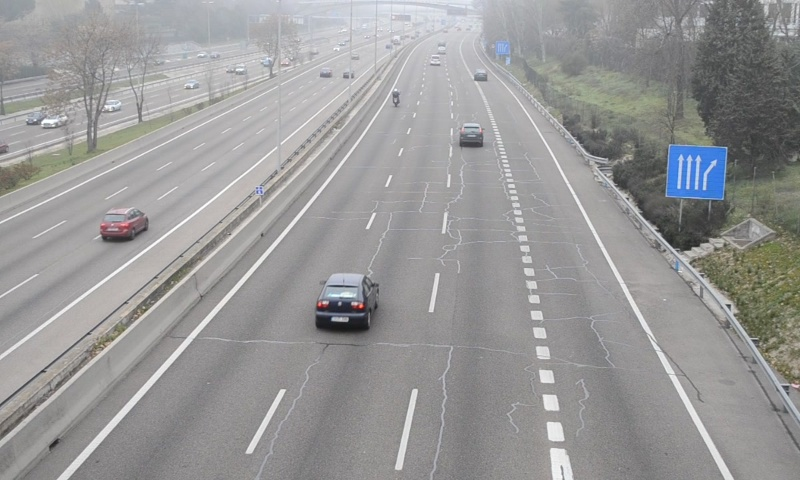car: (314, 273, 380, 330), (458, 123, 484, 148), (473, 69, 488, 81)
motorcycle: (390, 88, 400, 110)
